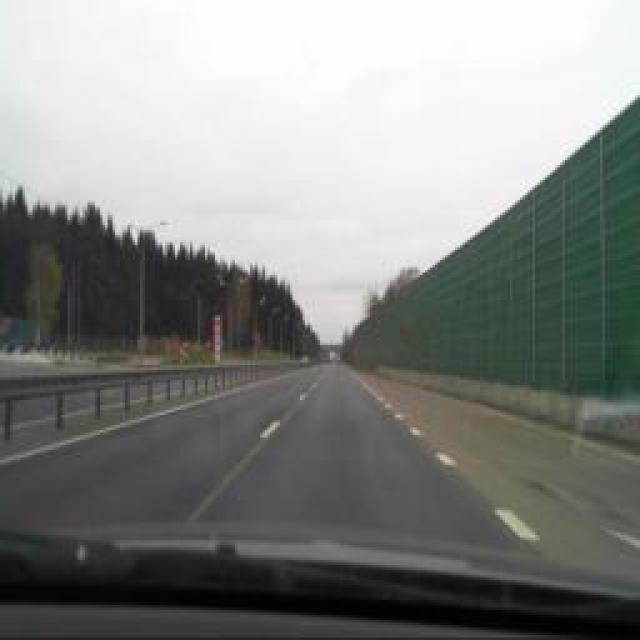sign: (399, 322, 409, 342)
